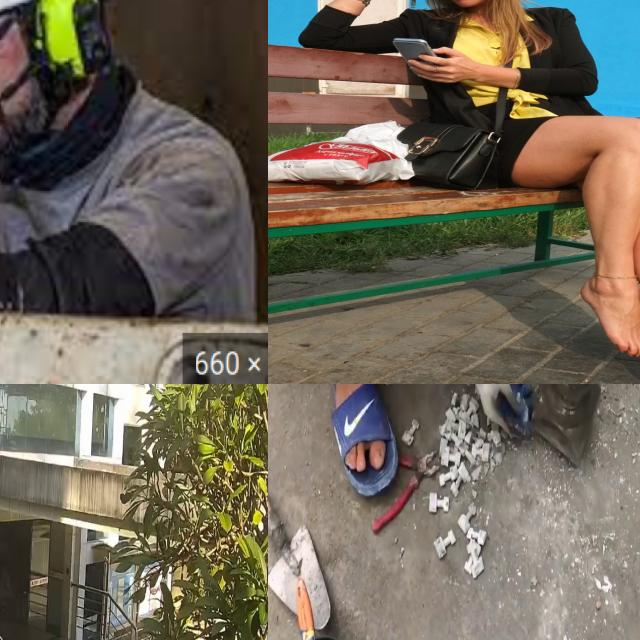Barefoots: (580, 276, 640, 357)
Ear-protection: (0, 0, 132, 169)
Sandals: (329, 384, 397, 504)
hand_glove: (460, 384, 533, 441)
